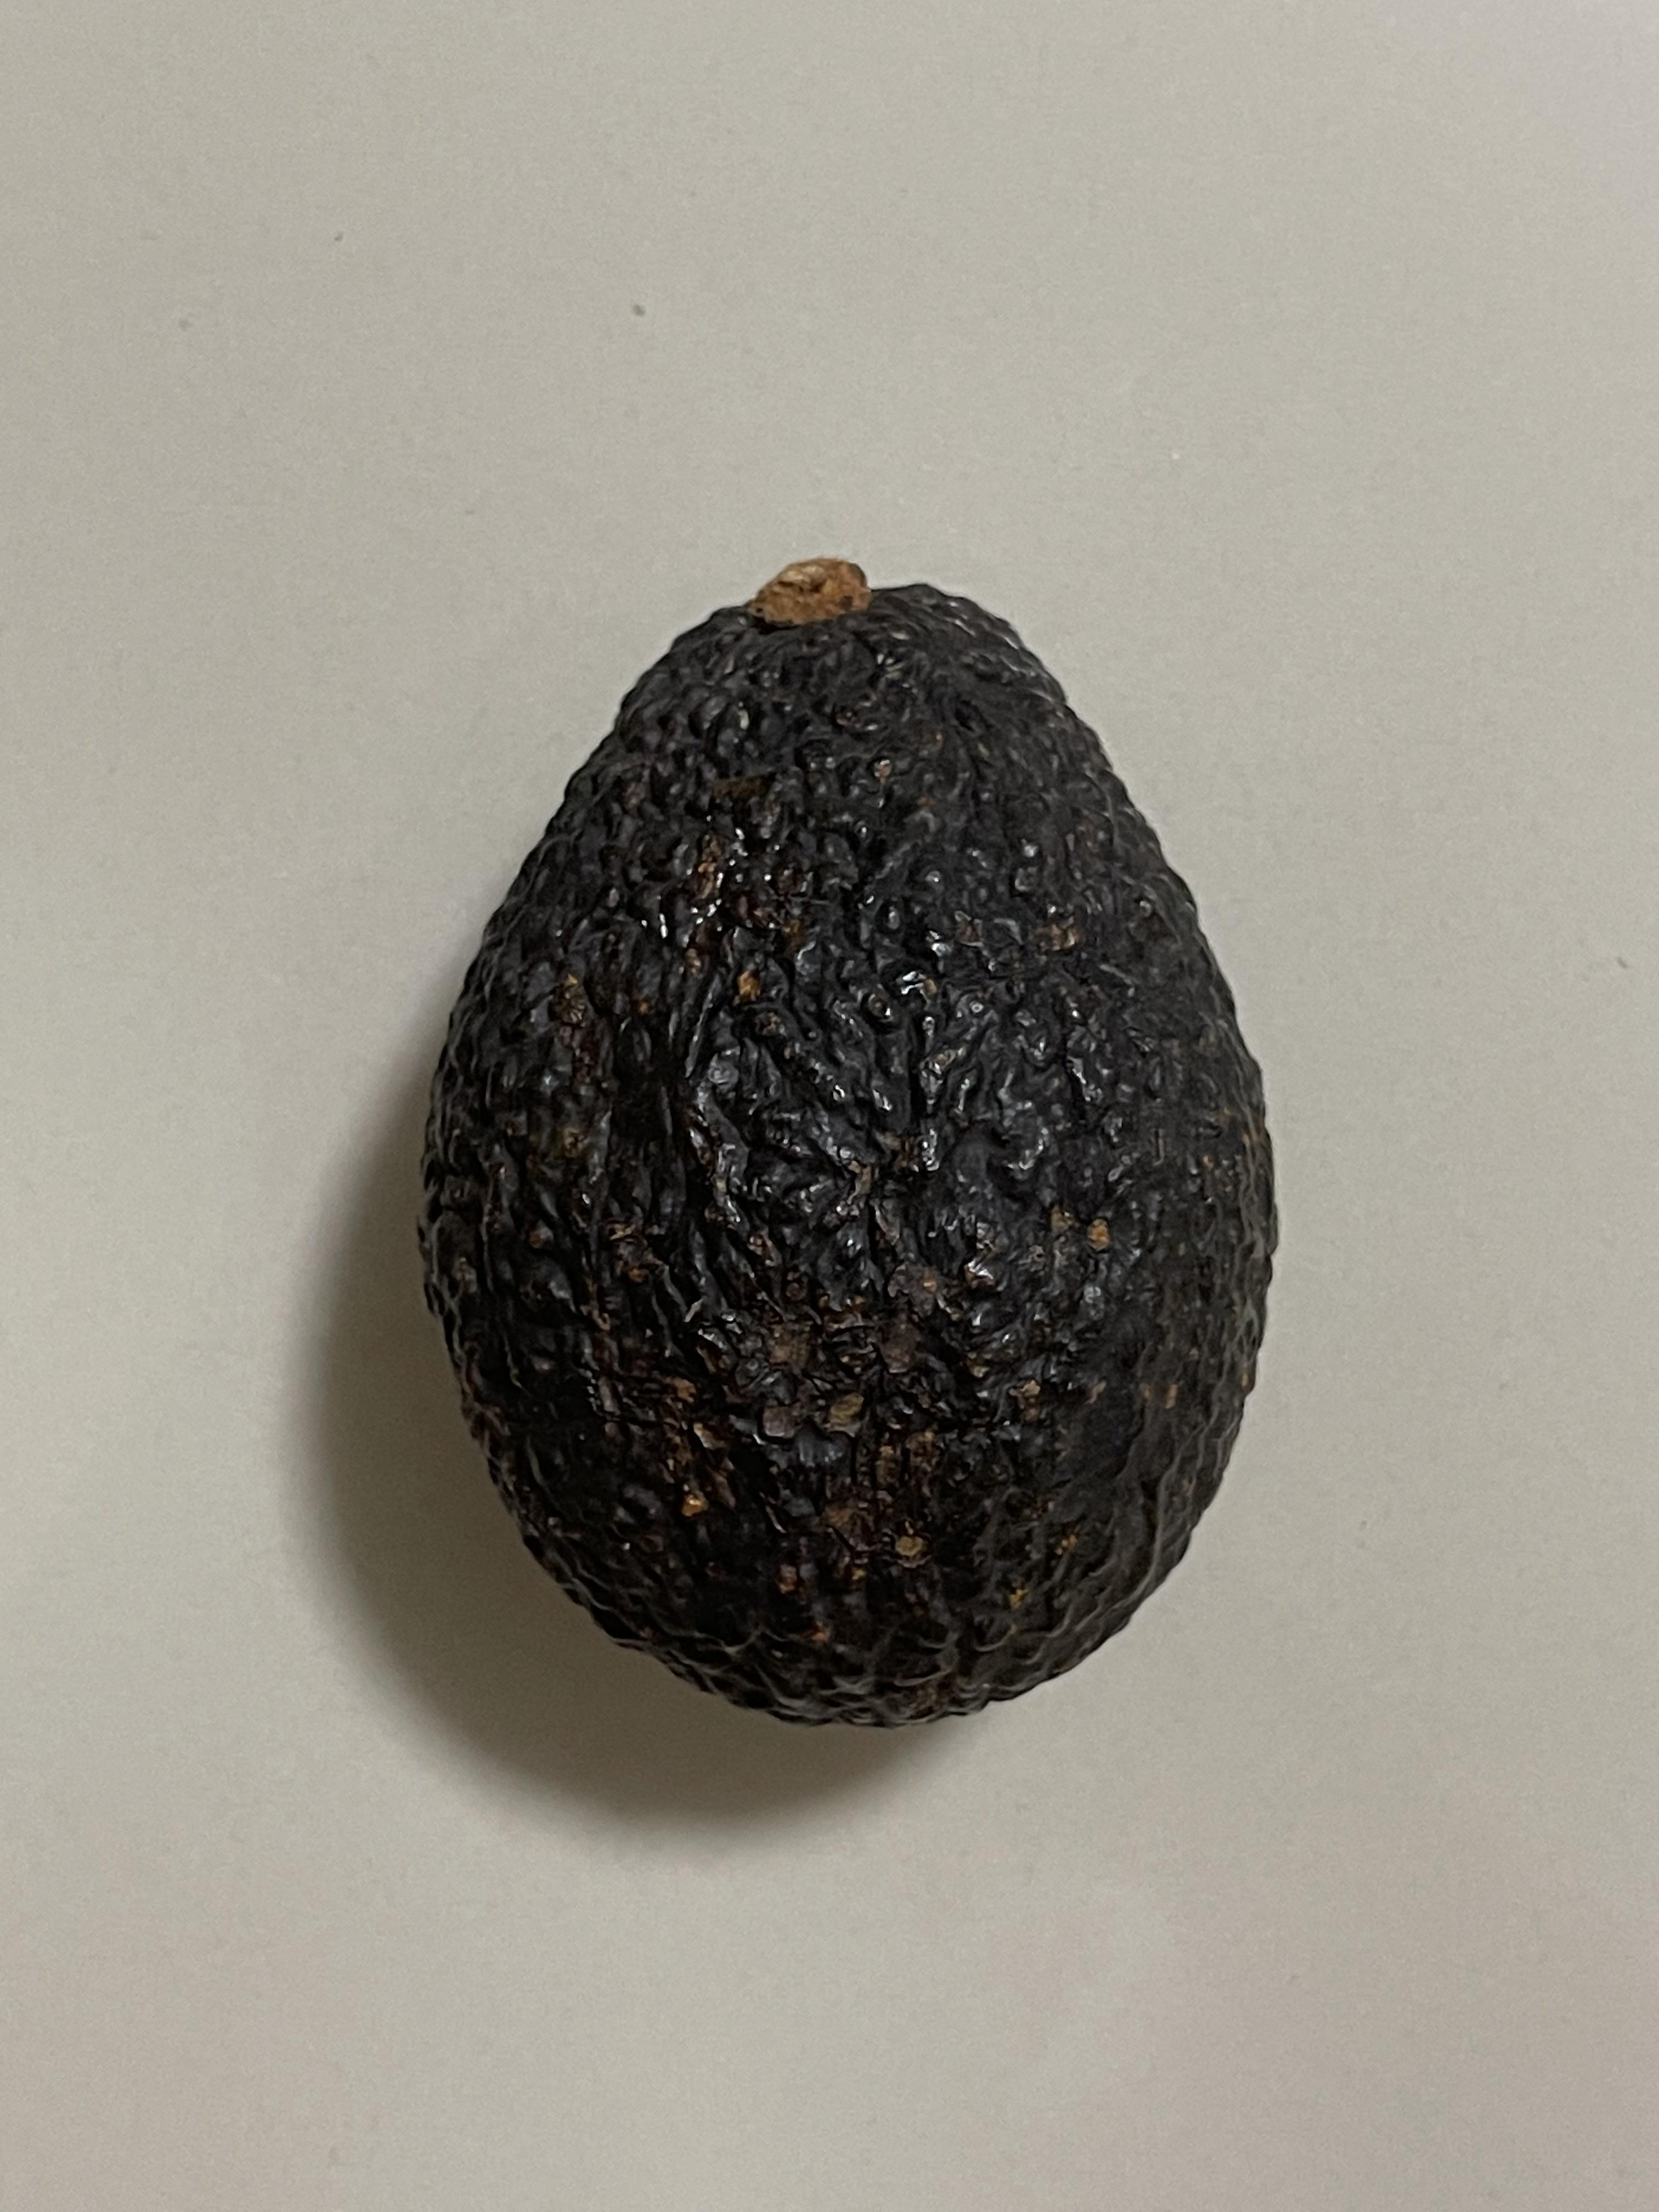Level2: (390, 542, 1291, 1742)
